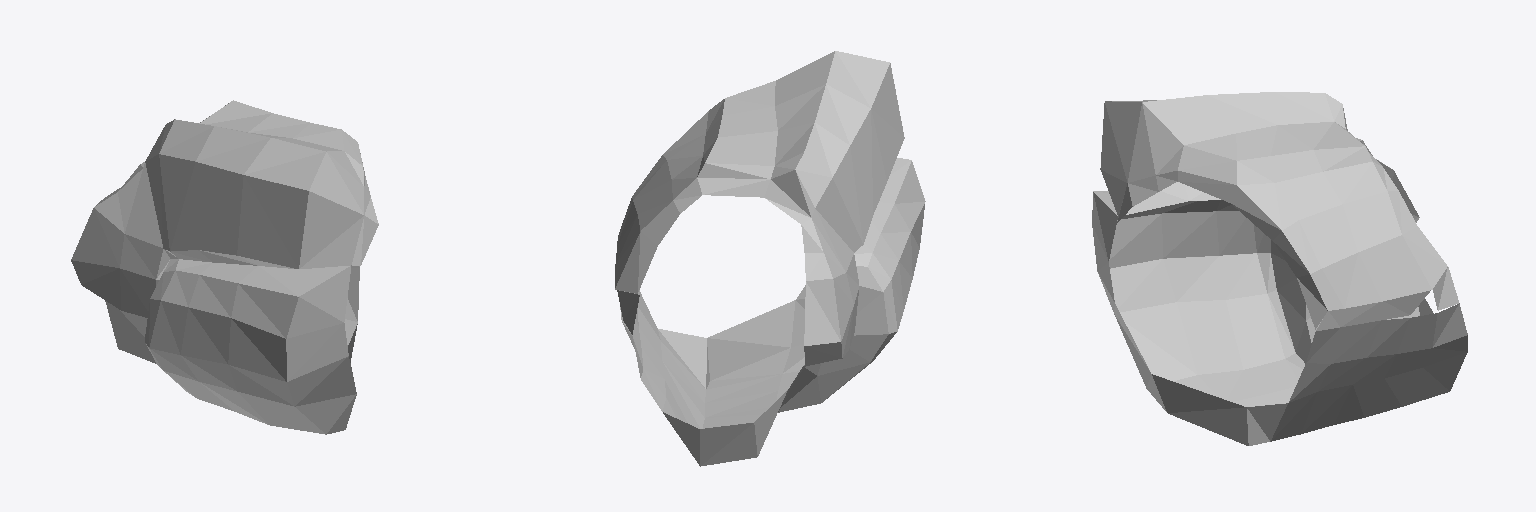
Rendered from X02LeftUpperarm.obj.
The picture shows the model from 3 angles: view 1: azimuth 30°, elevation 25°; view 2: azimuth 150°, elevation 25°; view 3: azimuth 270°, elevation 25°; orthographic projection.
Visible parts, largest first — view 1: CPA; view 2: CPA; view 3: CPA.
Part boxes in pixels (bbox=[...]): CPA: bbox=[71, 100, 378, 434]; CPA: bbox=[615, 51, 925, 466]; CPA: bbox=[1092, 92, 1467, 445].
Size of the model in its own units: 17.86 by 20.42 by 22.5.